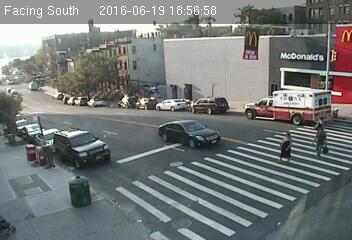neg: (171, 119, 194, 150), (174, 156, 188, 175), (129, 154, 141, 170), (58, 183, 69, 197)
pos: (307, 125, 332, 159), (273, 129, 298, 163), (317, 117, 325, 127)
